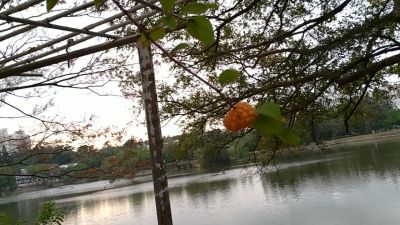eggs: (222, 100, 258, 132)
